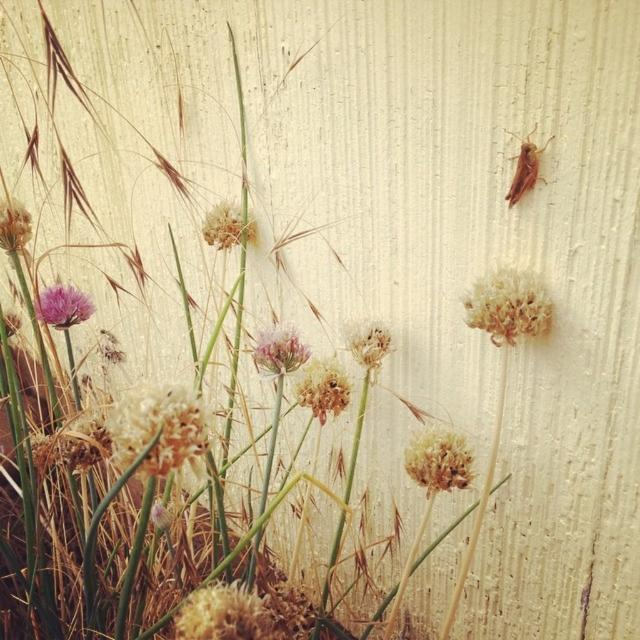Flower: (97, 368, 213, 488), (458, 262, 552, 340), (173, 578, 275, 638), (398, 424, 480, 494), (290, 358, 350, 428), (242, 320, 310, 380), (344, 318, 396, 374), (40, 274, 91, 322)
